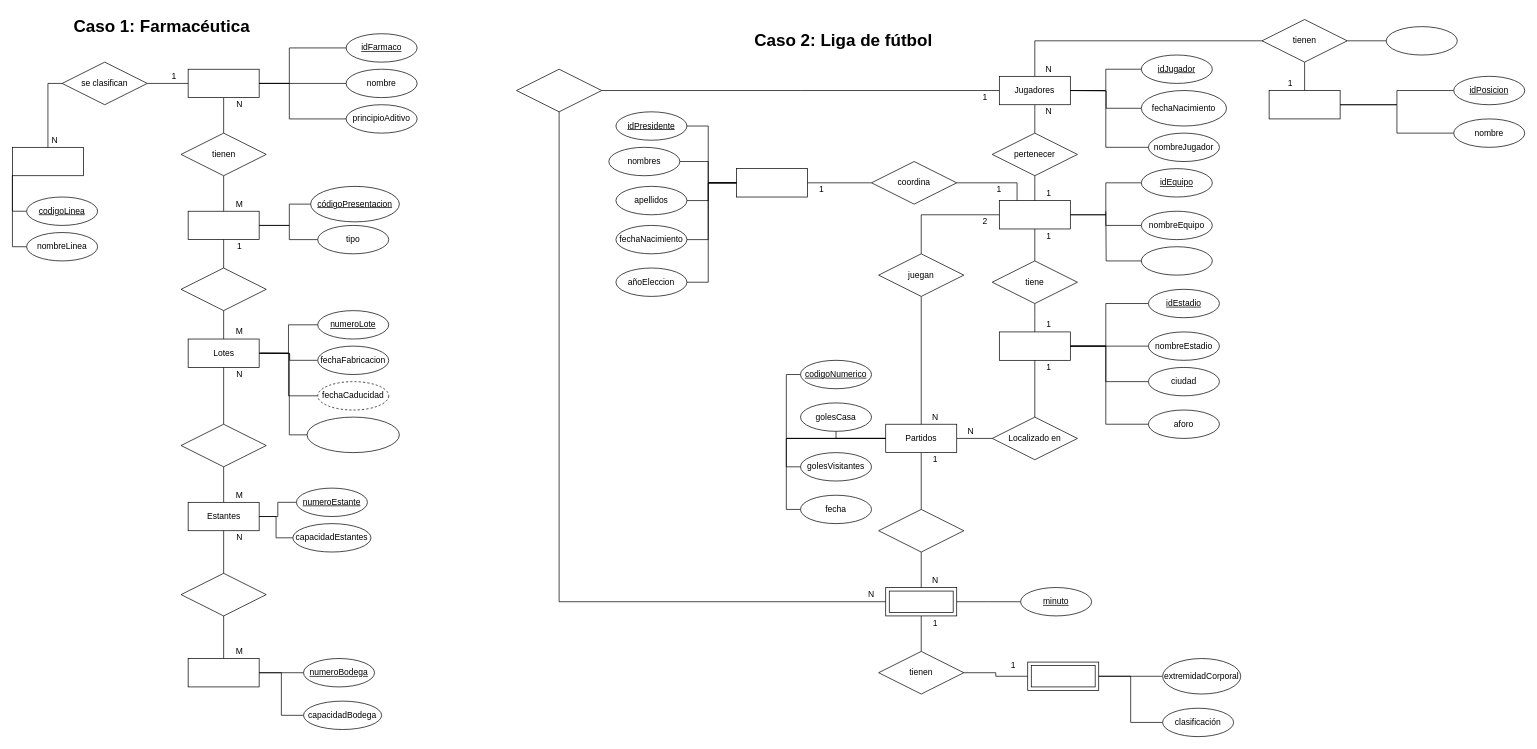
Some shapes in this 1537 by 749 pixel diagram are drawn without their labels. The box of each missing label's shape, as (x1, y1, x2, y2) in pixels:
alamacenan: (180, 573, 266, 616)
añoFundación: (1141, 246, 1212, 275)
Bodegas: (187, 658, 259, 687)
contiene: (180, 424, 266, 467)
Descripciones: (1027, 661, 1099, 690)
Equipos: (999, 200, 1070, 229)
Estadio: (999, 331, 1070, 360)
Farmacos: (187, 69, 259, 98)
Goles: (885, 587, 957, 616)
hay: (878, 509, 964, 552)
Líneas: (12, 147, 83, 176)
meten: (516, 69, 602, 112)
Pertenece: (180, 267, 266, 311)
Posiciones: (1268, 90, 1340, 119)
Presentaciones: (187, 211, 259, 240)
Presidentes: (736, 168, 808, 197)
temporada: (1386, 26, 1457, 55)
unidadesProducidas: (306, 416, 399, 453)
